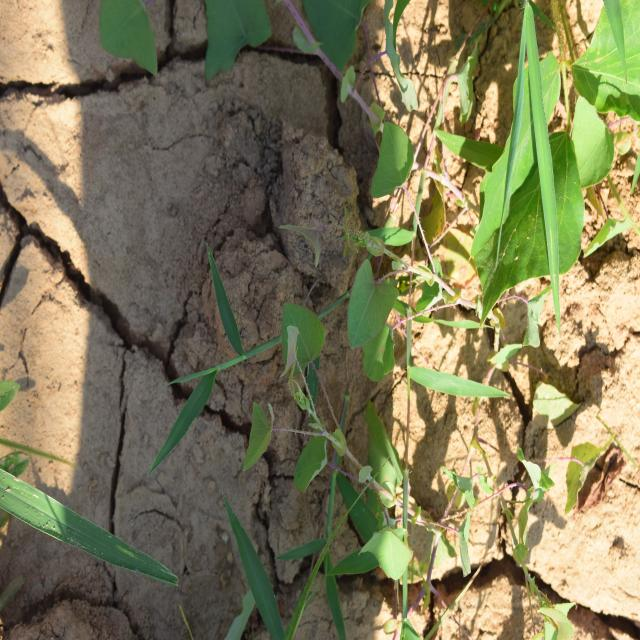Asiatic_Smartweed: (247, 258, 406, 506)
